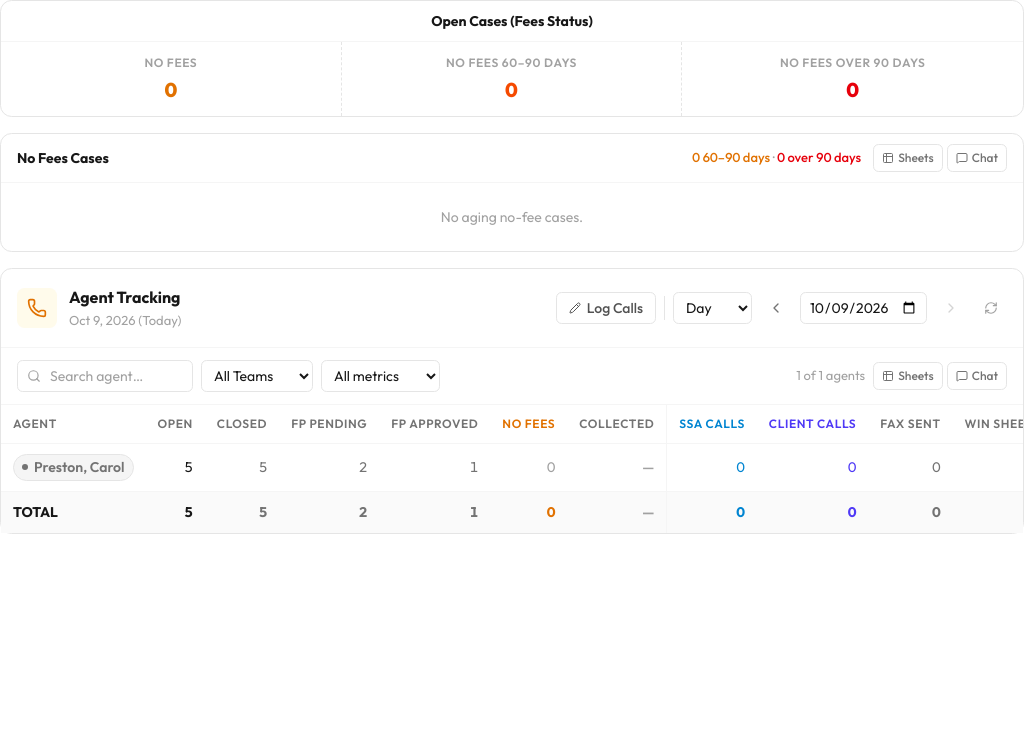
Test case: ScoreboardTracker — daily-metrics save › shows a success message after a successful POST to /api/daily-metrics
Expected: the text "Preston, Carol" is shown, [34, 456, 124, 478]
Open the call log entry panel
Click the button "Log Calls" at (606, 308), box [556, 292, 656, 324]
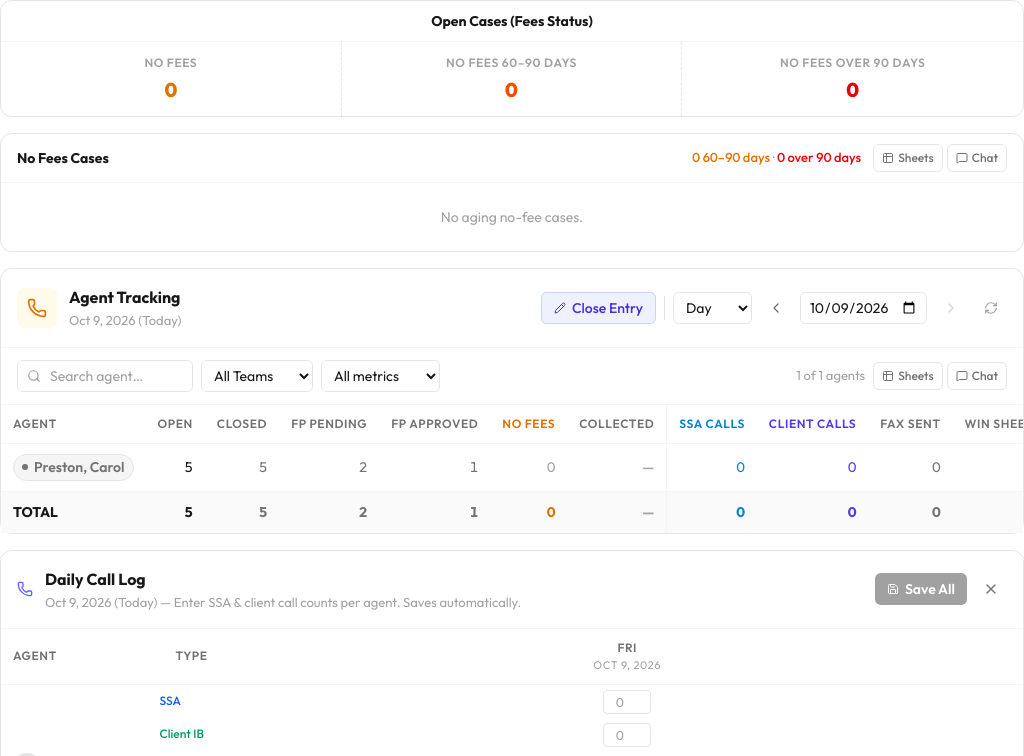
Expected: the heading "Daily Call Log" is shown, [45, 568, 146, 588]
Type into the first SSA-calls number input to make the form dirty
Type "3" into the 1st number field with placeholder "0" at (627, 702), box [603, 690, 651, 714]
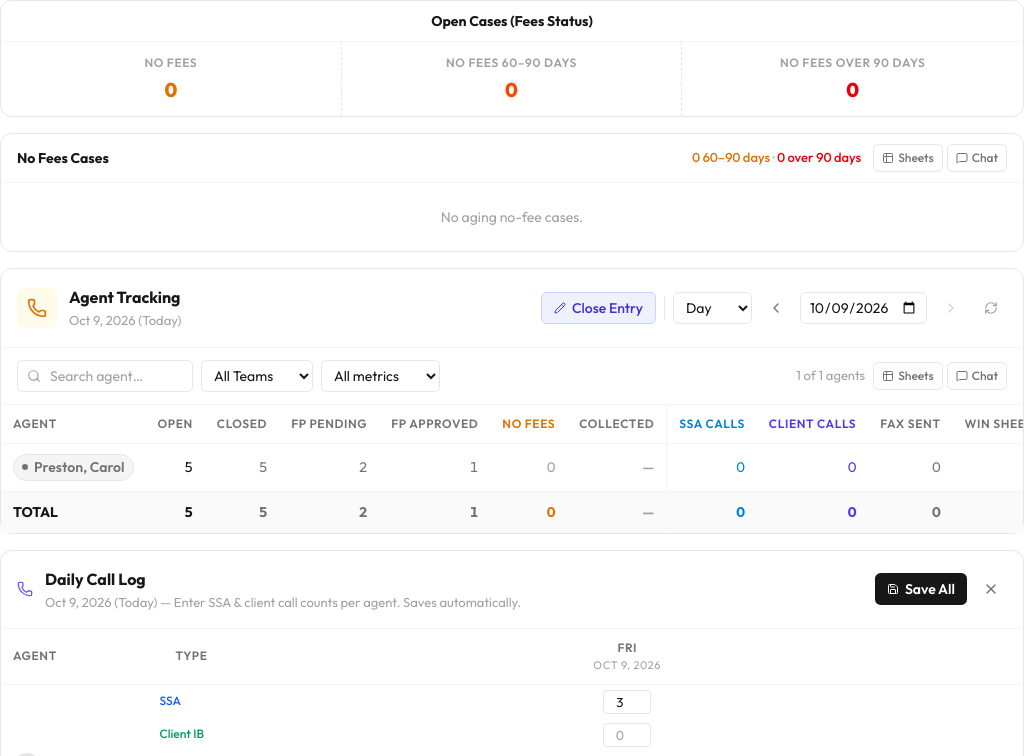
Click the button "Save All" at (921, 589), box [875, 573, 967, 605]
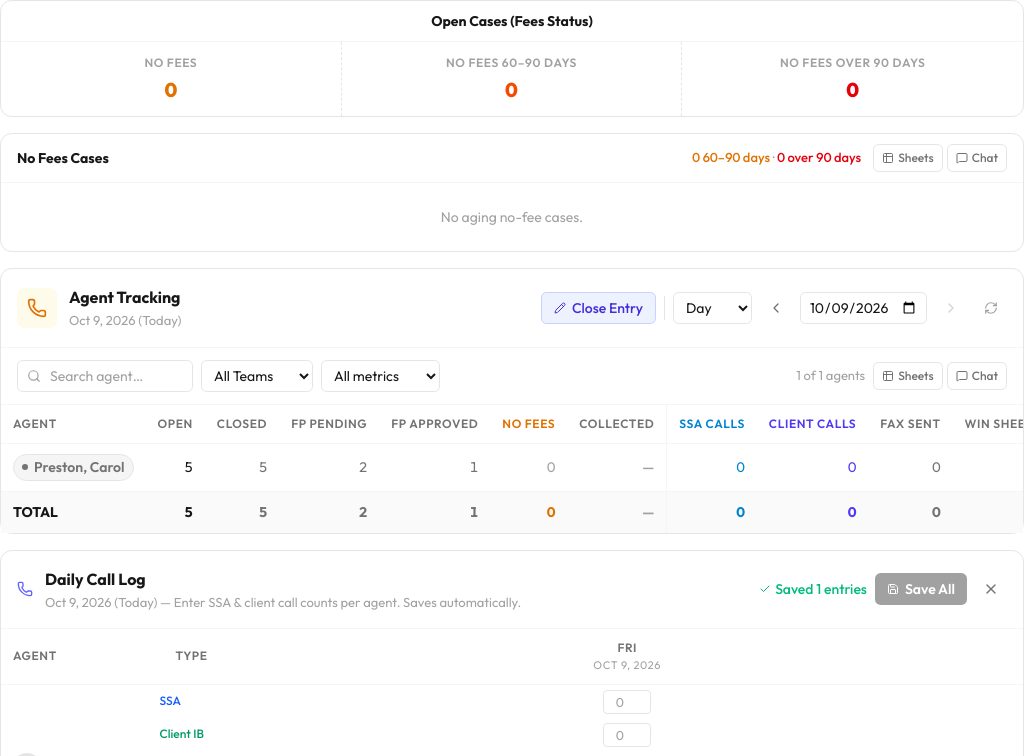
Expected: the message "Saved 1 entries" is shown, [759, 579, 867, 599]
Expected: the message shows "Saved", [775, 580, 867, 598]
